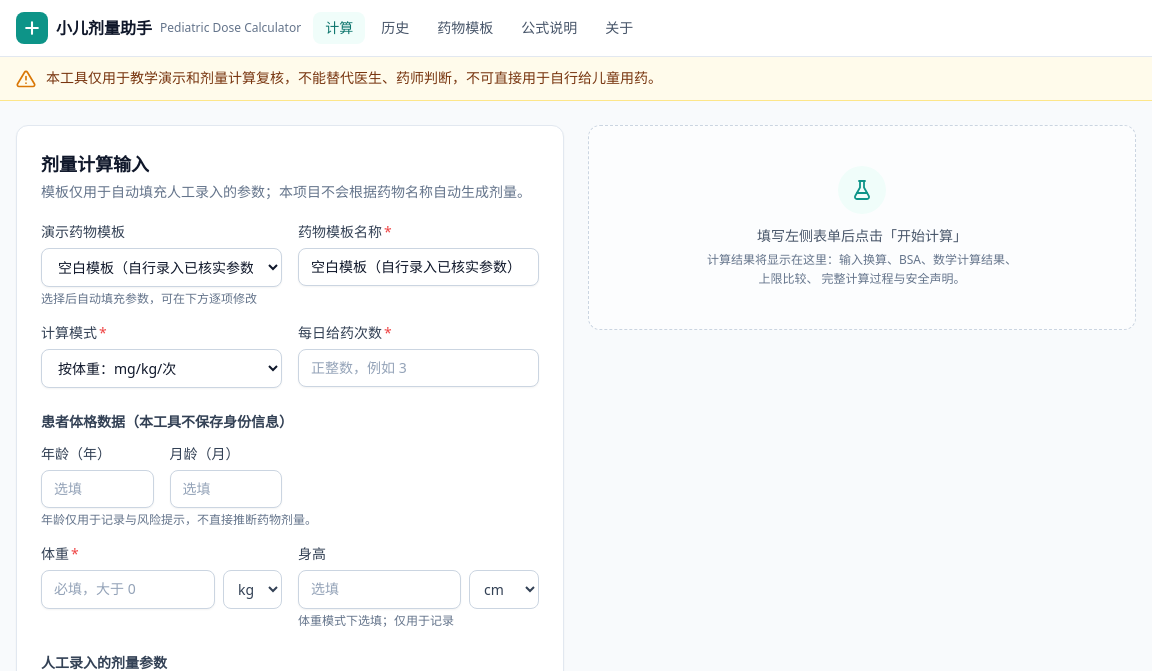
Scenario: 页面与按钮冒烟测试 › 无效输入被拦截：负体重 / 非整数次数 / 零剂量不产生结果
Step 1. Select "模拟药物A（虚构演示·体重每次）（虚构演示数据）" in the dropdown with id "f-template" → (162, 267), box [41,248,282,287]
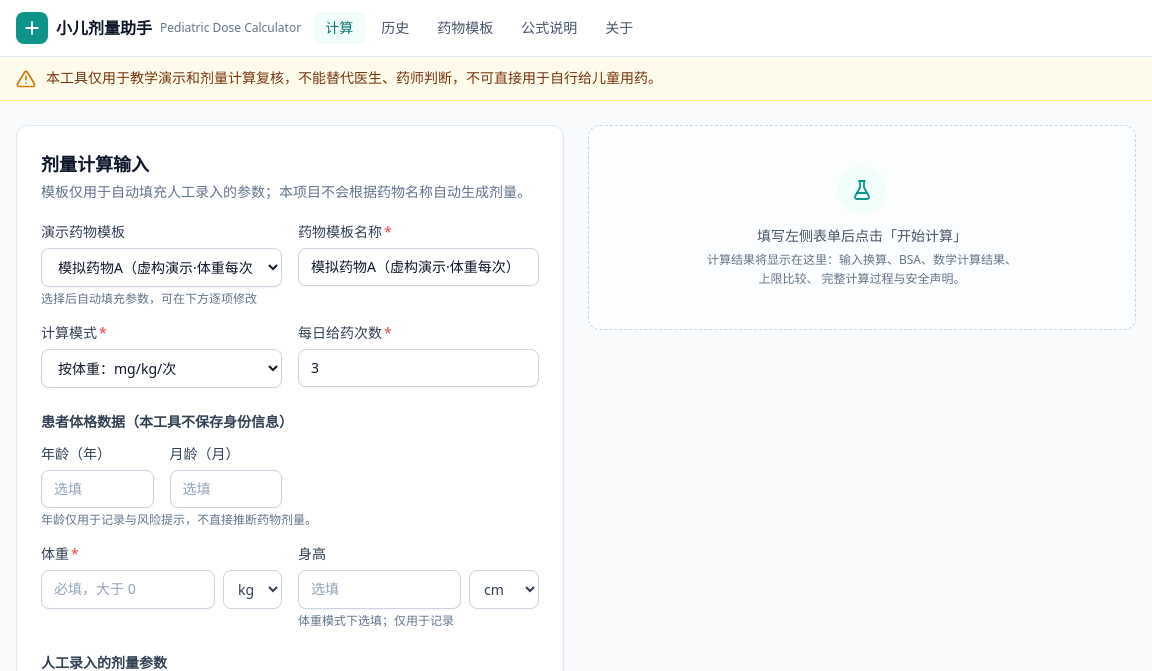
Step 2. Replace the text in the number field with id "f-times" with "1.5" → (418, 368), box [298,349,539,387]
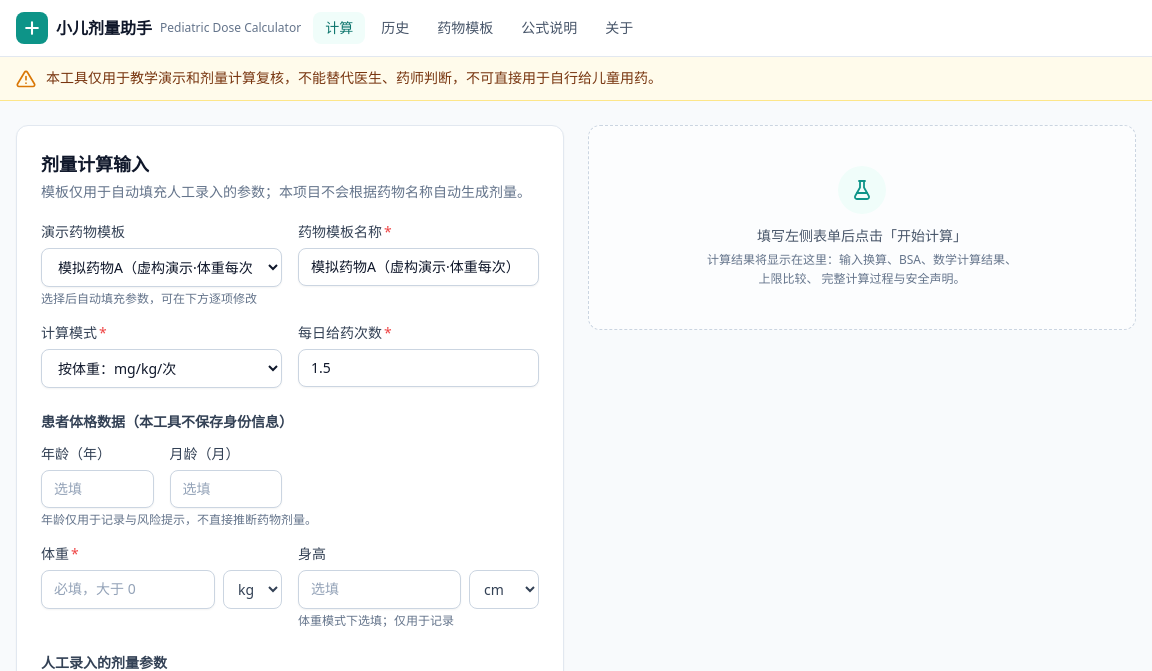
Step 3. Type "-5" into the number field with id "f-weight" → (128, 589), box [41,570,215,609]
(page scrolled)
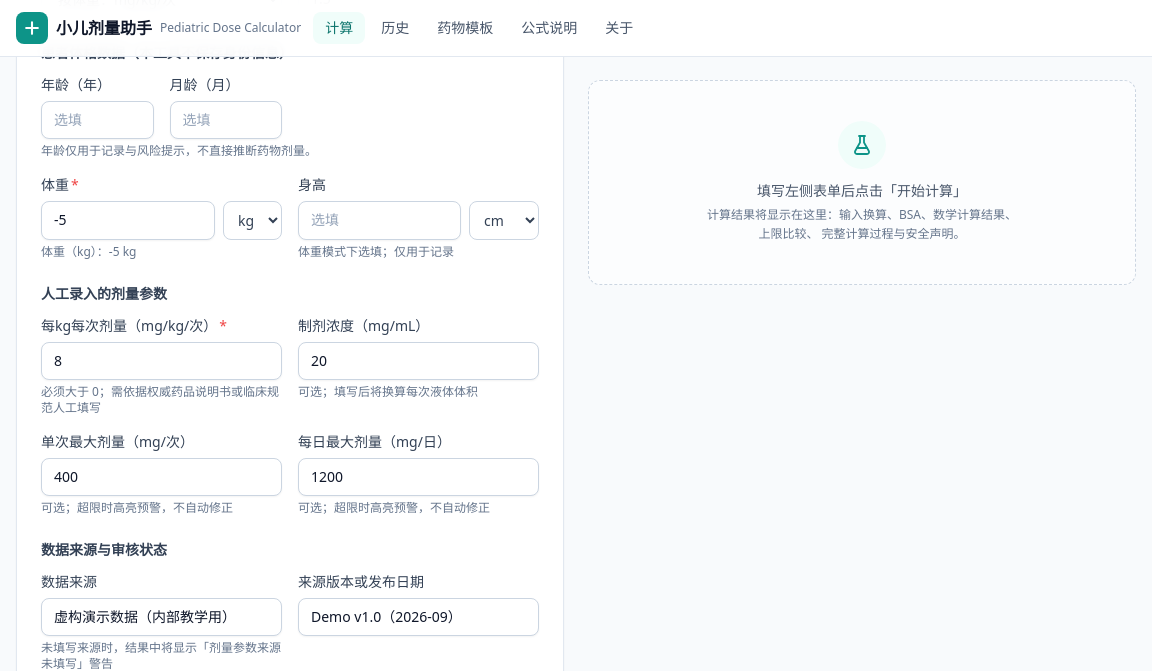
Step 4. Replace the text in the number field with id "f-dose" with "0" → (162, 361), box [41,342,282,380]
(page scrolled)
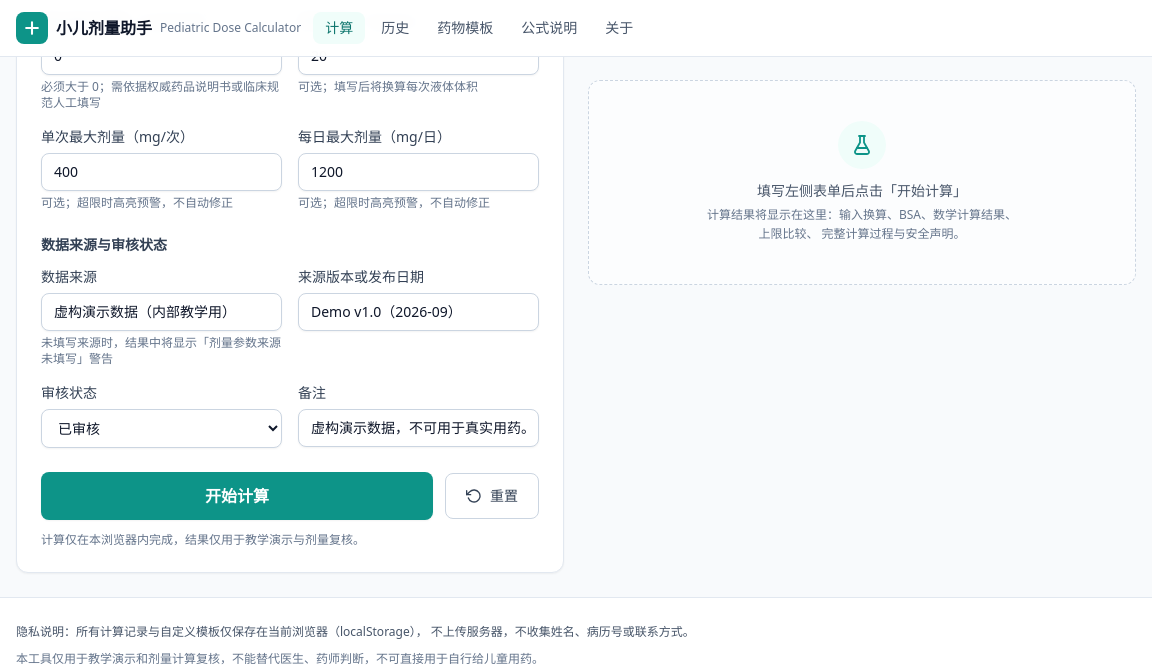
Step 5. Click the button "开始计算" → click(237, 496), box [41,472,433,520]
(page scrolled)
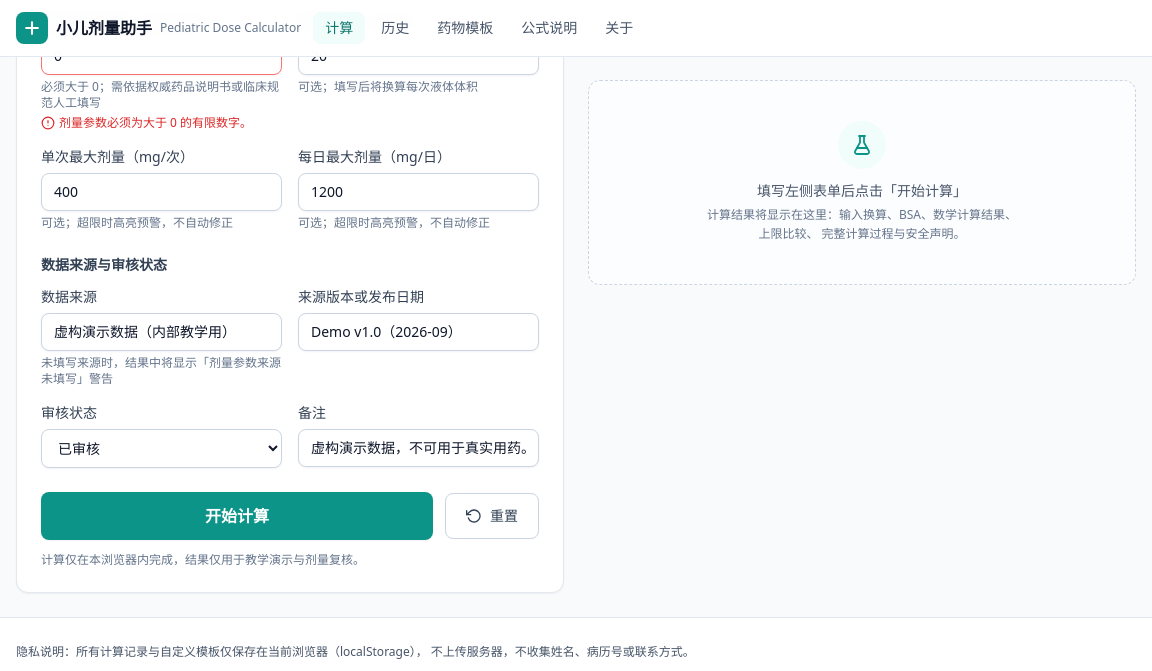
Check: the text "剂量参数必须为大于 0 的有限数字。" is shown, box [41,115,282,131]
